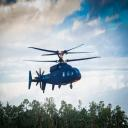helicopter: (26, 45, 102, 94)
